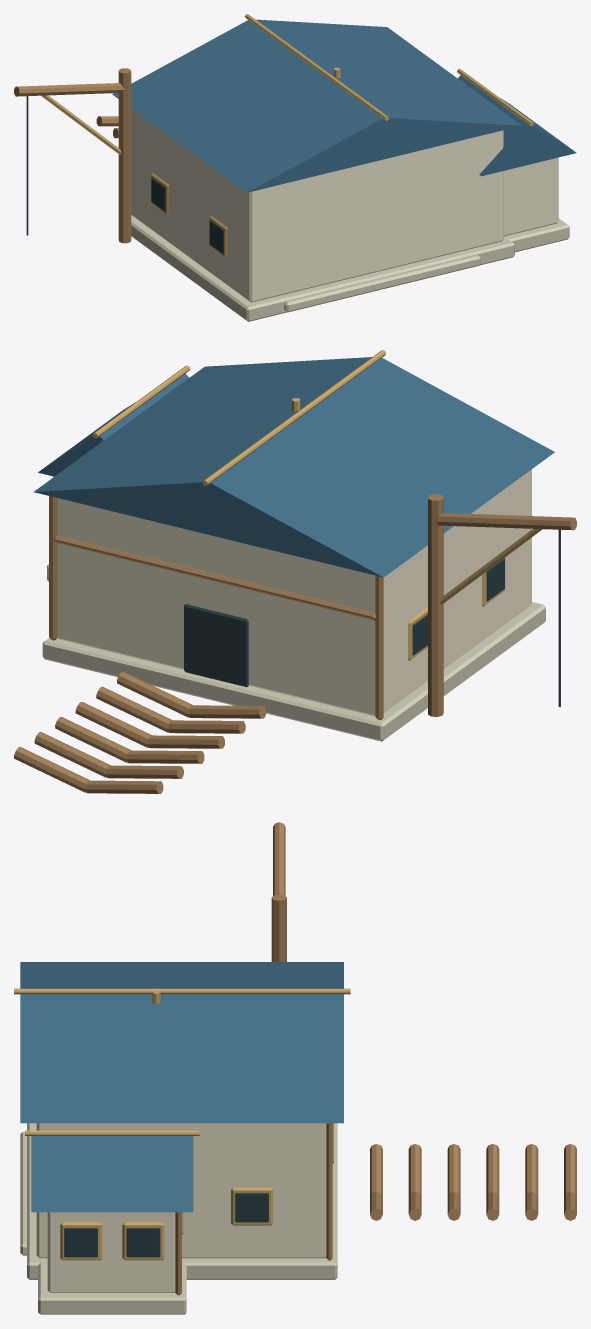
The model's file is level_18.glb.
The picture shows the model from 3 angles, top to bottom: view 1: azimuth 30°, elevation 25°; view 2: azimuth 150°, elevation 25°; view 3: azimuth 270°, elevation 25°; orthographic projection. The views are drawn at different scales.
Parts seen in each view (by area): view 1: shipyard — level 18; view 2: shipyard — level 18; view 3: shipyard — level 18.
Part boxes in pixels (box(x1,y1,x2,y2)): shipyard — level 18: box(14, 14, 576, 321); shipyard — level 18: box(14, 350, 576, 793); shipyard — level 18: box(14, 822, 576, 1314).
Size of the model in its own units: 9.81 by 3.91 by 8.7.
